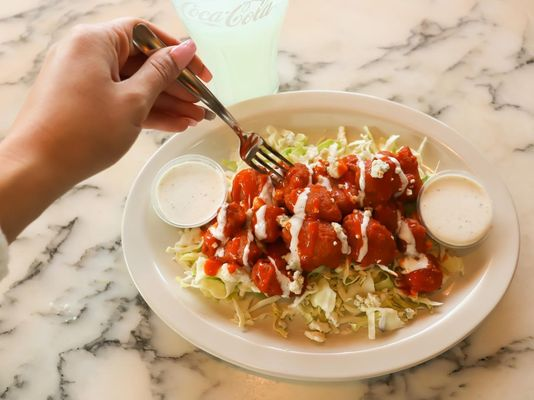pizza: (170, 0, 290, 104)
